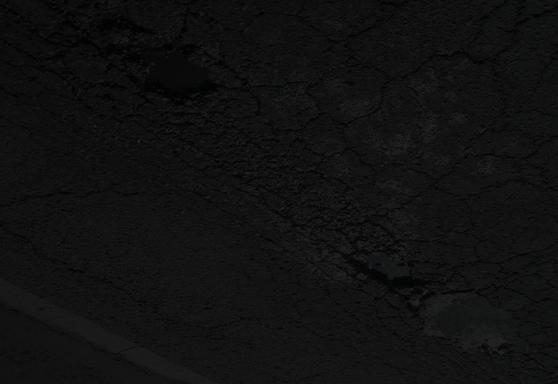pothole: (89, 19, 238, 115), (330, 224, 444, 299)
